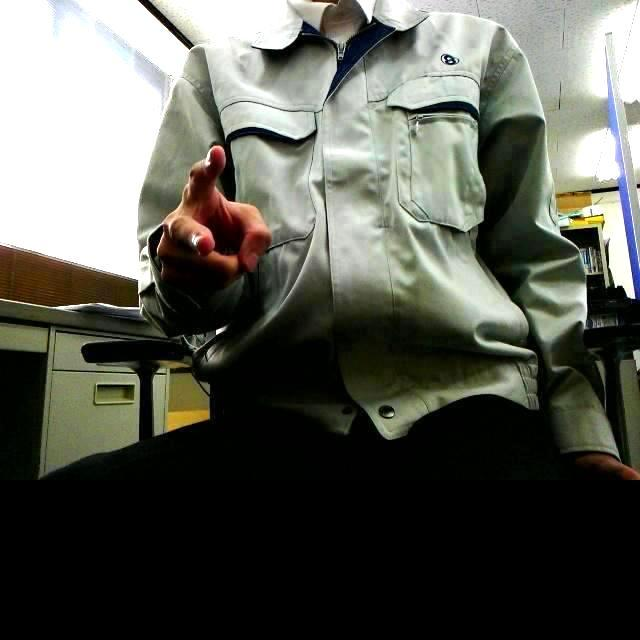tyoki: (157, 144, 268, 294)
